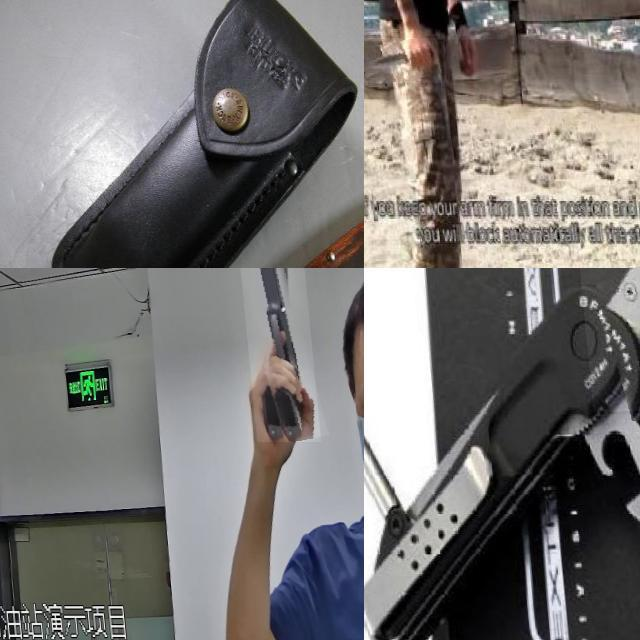-: (364, 38, 433, 83)
gun-knife-thesis - v11 Yolov5 augmented: (232, 268, 312, 442)
